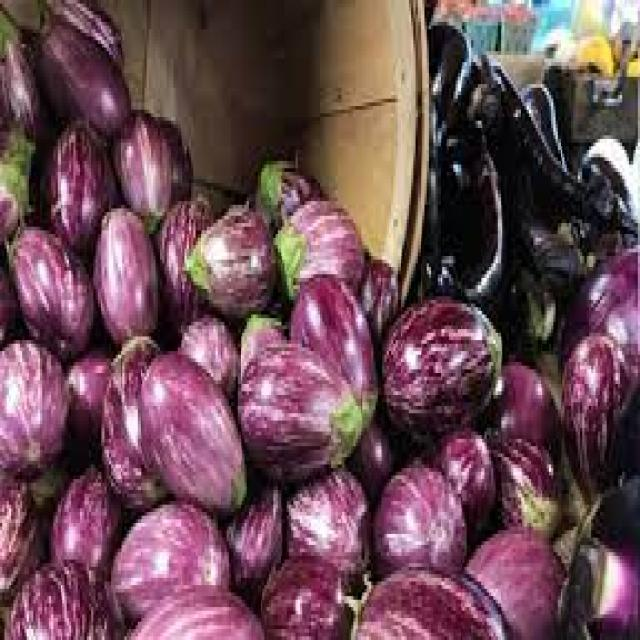eggplant: (136, 347, 247, 501), (236, 336, 356, 472), (380, 296, 498, 432), (111, 498, 229, 614), (349, 556, 507, 636), (562, 335, 632, 504), (7, 223, 93, 351), (37, 15, 126, 132), (373, 457, 467, 567), (44, 110, 114, 241), (189, 205, 271, 314), (276, 194, 366, 292), (93, 208, 158, 336), (111, 106, 171, 223)
